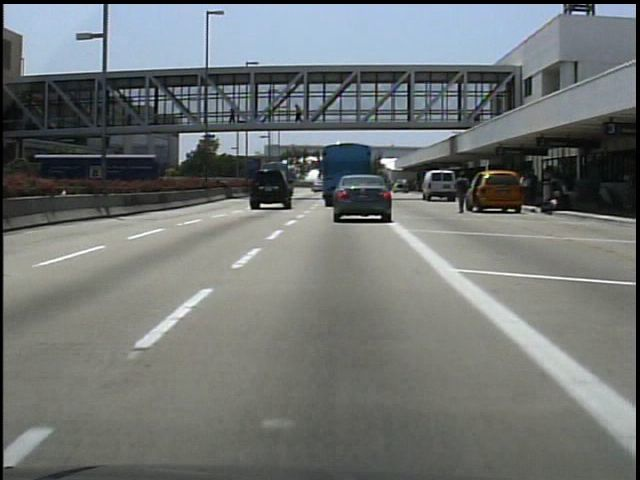person: (453, 170, 475, 219), (225, 101, 241, 125), (293, 103, 307, 130)
